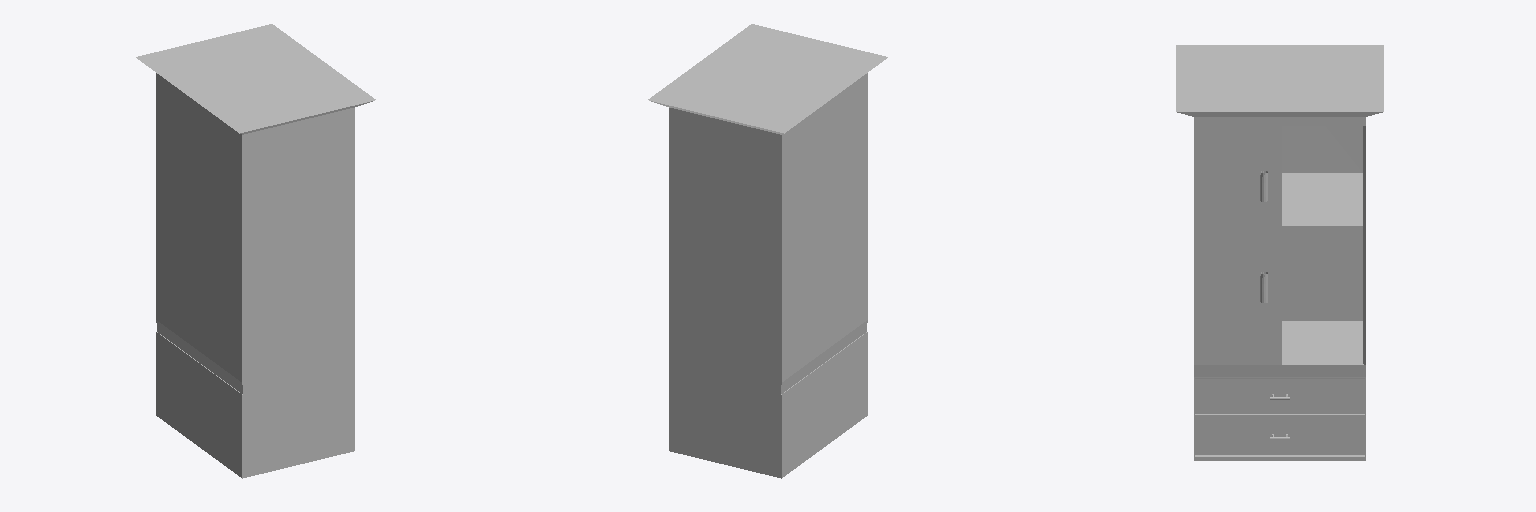
File: Wardrobe.obj
3 renders of one model, left to right at view 1: azimuth 30°, elevation 25°; view 2: azimuth 150°, elevation 25°; view 3: azimuth 270°, elevation 25°, orthographic.
Parts seen in each view (by area): view 1: polySurface9; view 2: polySurface9; view 3: polySurface9.
Boxes of the visible parts, box(x1,y1,x2,y2) form: polySurface9: box(136, 24, 375, 478); polySurface9: box(648, 24, 887, 478); polySurface9: box(1176, 45, 1383, 460).
Size of the model in its own units: 95.32 by 235 by 125.